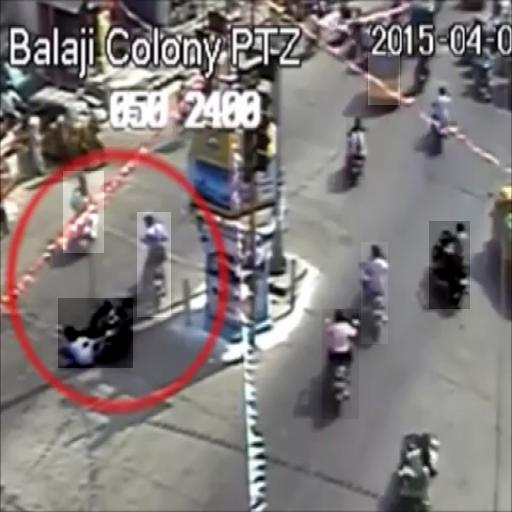小汽车: (368, 52, 400, 105)
自行车: (58, 298, 133, 368), (322, 310, 359, 420), (429, 221, 470, 309), (138, 212, 172, 317), (63, 171, 104, 253), (361, 242, 388, 344), (430, 85, 449, 157), (346, 116, 365, 180)
